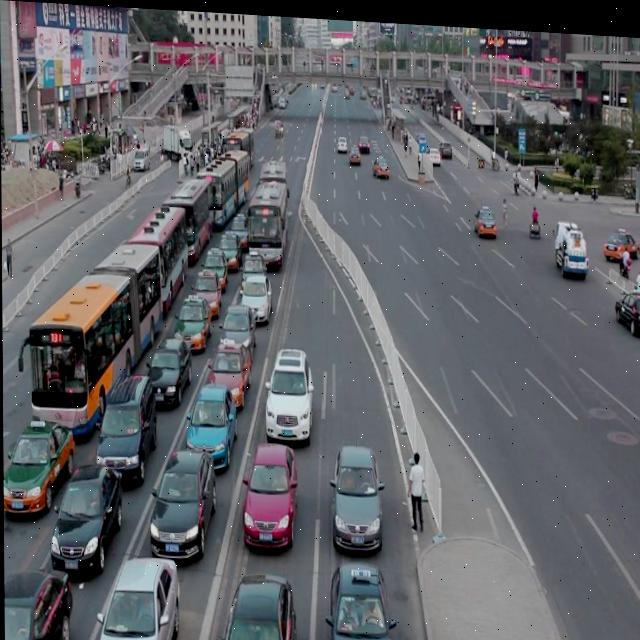bus: (551, 212, 587, 272)
car: (49, 463, 122, 571), (150, 448, 216, 559), (98, 554, 178, 640), (2, 417, 73, 513), (97, 373, 155, 481), (325, 556, 394, 640), (242, 441, 297, 543), (329, 442, 382, 545), (217, 570, 294, 640), (3, 568, 71, 640), (264, 346, 313, 438), (187, 383, 236, 466), (148, 336, 191, 405), (209, 337, 250, 405), (220, 301, 256, 361), (175, 292, 211, 348), (600, 218, 640, 254), (240, 274, 271, 318), (611, 279, 640, 325), (193, 269, 221, 312), (200, 243, 227, 284), (240, 247, 267, 286), (215, 227, 241, 266), (228, 209, 249, 246), (473, 200, 495, 229), (372, 151, 388, 172), (424, 142, 438, 158), (348, 141, 360, 158)
van: (17, 237, 162, 438), (122, 200, 188, 313), (195, 144, 249, 226), (162, 175, 212, 259), (247, 177, 286, 261), (258, 156, 288, 222), (222, 124, 255, 168)
